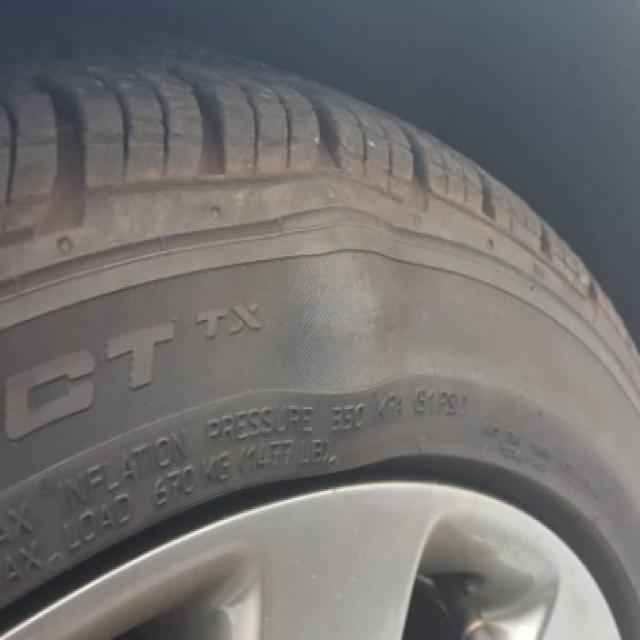Bulge: (282, 158, 414, 448)
